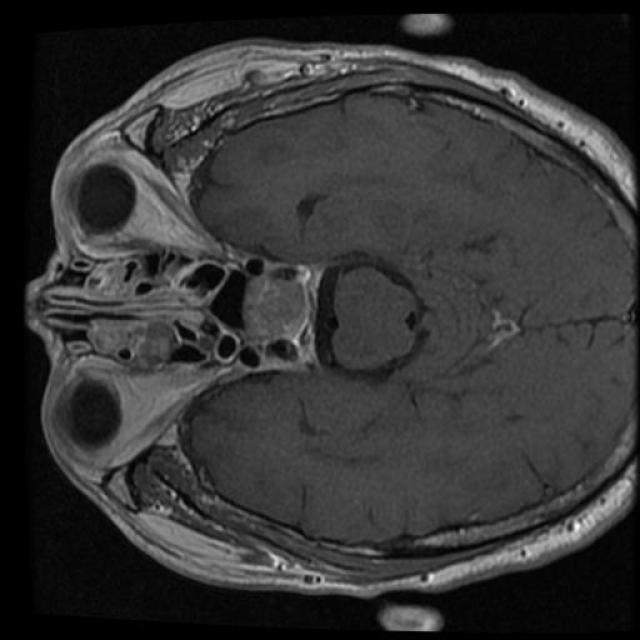Pituitary: (242, 276, 306, 339)
